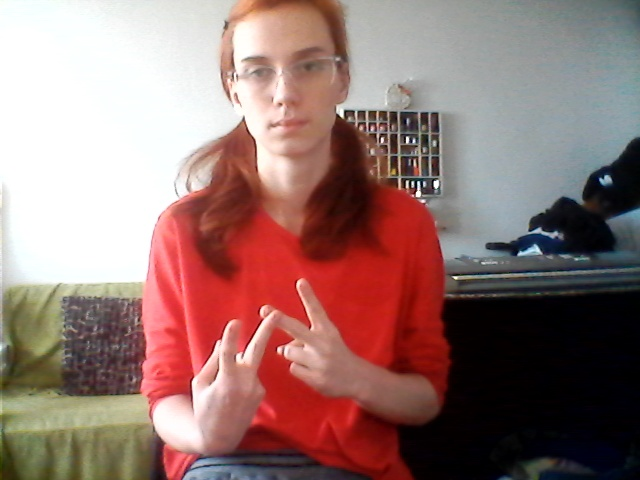w: (195, 277, 352, 421)
